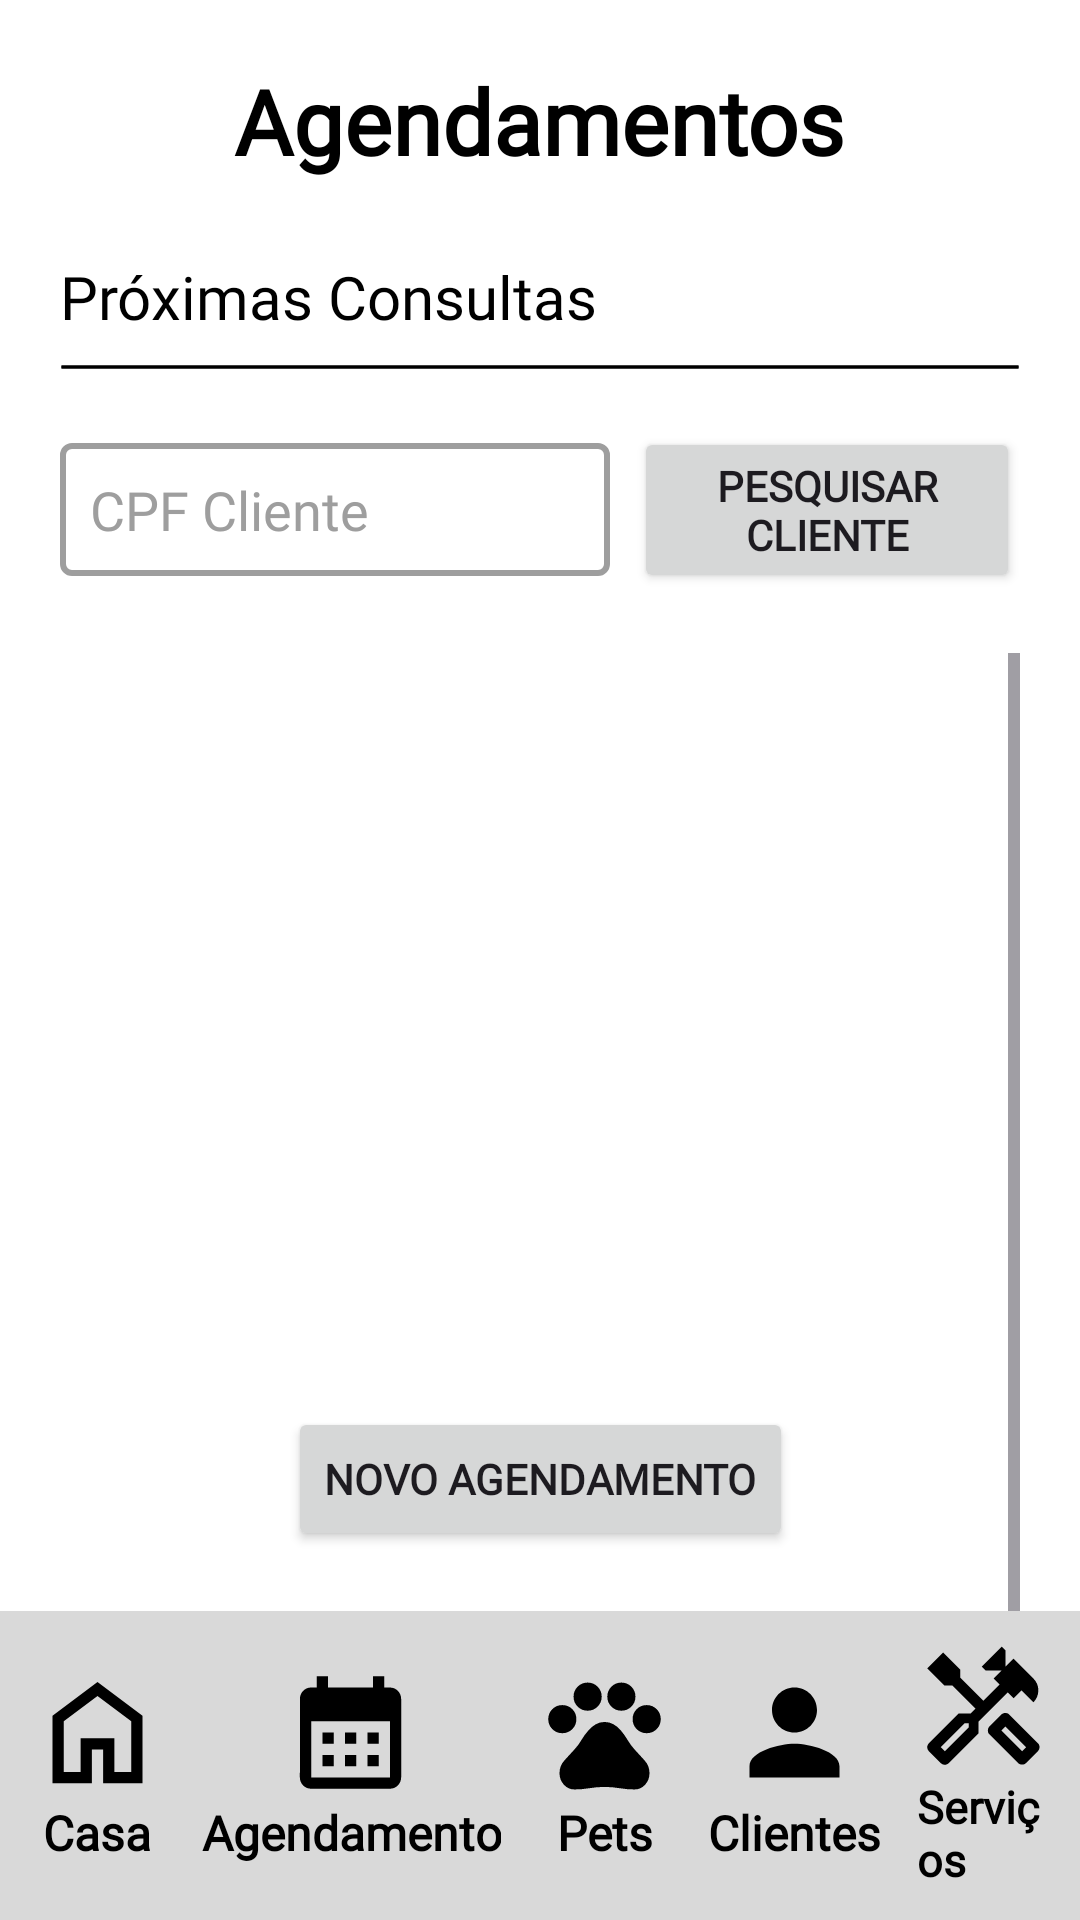

Icons on this 1080 x 1920 Android screen, each with its box as {"x1": x1, "y1": y1, "x2": x2, "y2": y2}:
calendar month: {"x1": 299, "y1": 1676, "x2": 402, "y2": 1789}
person: {"x1": 749, "y1": 1687, "x2": 840, "y2": 1778}
